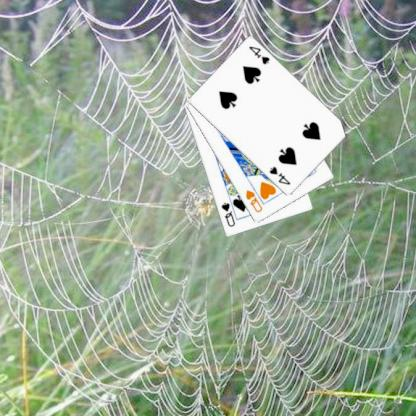4S: (268, 164, 294, 186), (248, 44, 274, 66)
QH: (245, 188, 266, 214)
QS: (220, 199, 238, 228)
